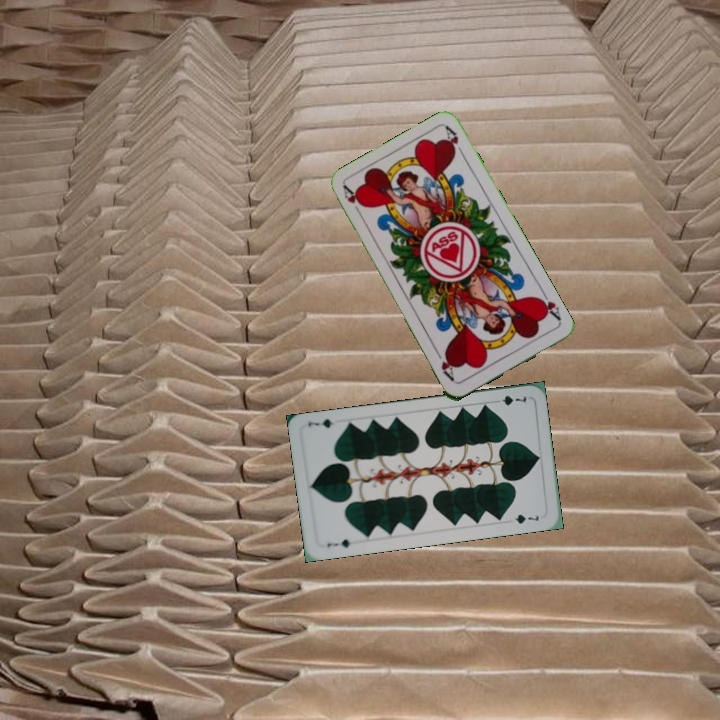G7: (489, 391, 529, 408), (323, 535, 353, 550)
HA: (532, 287, 564, 323), (339, 182, 365, 220)
